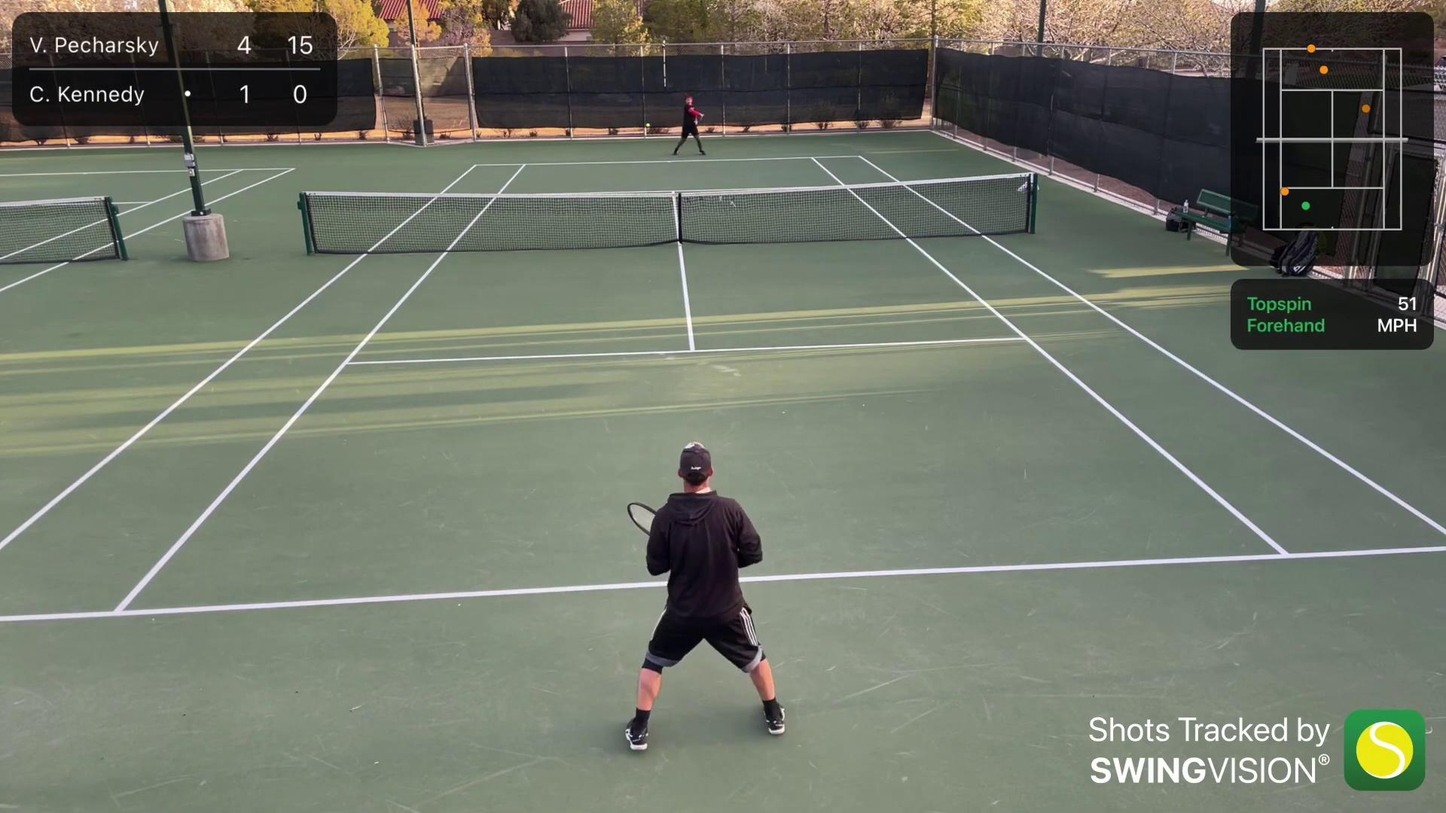ball: (644, 122, 651, 128)
